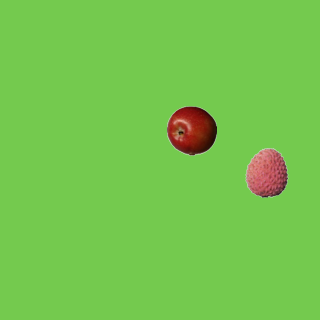Apple Braeburn: (166, 105, 216, 155)
Lychee: (241, 147, 291, 197)
